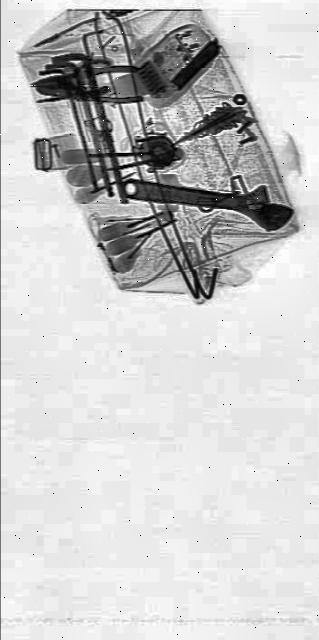Pliers: (35, 64, 141, 110)
Wrench: (122, 166, 292, 238)
